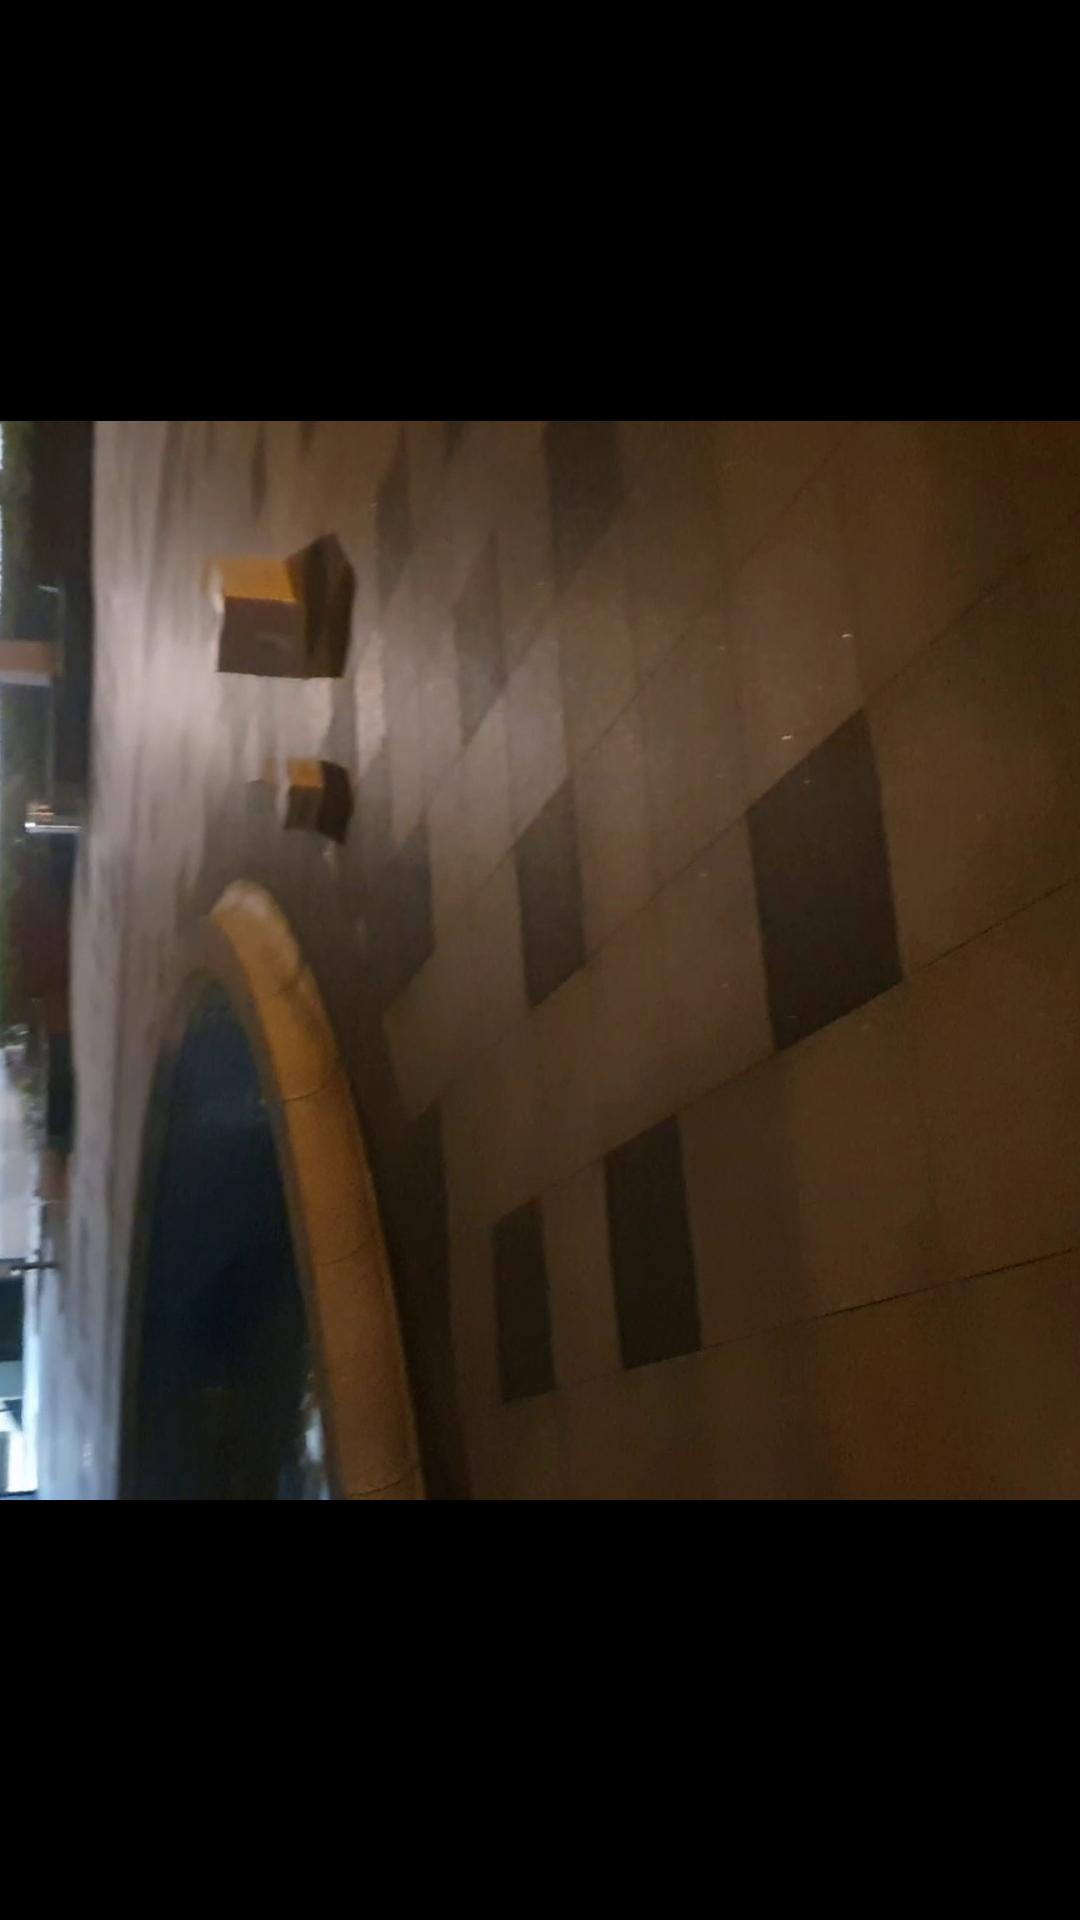Box: (195, 555, 316, 669), (273, 753, 334, 829)
